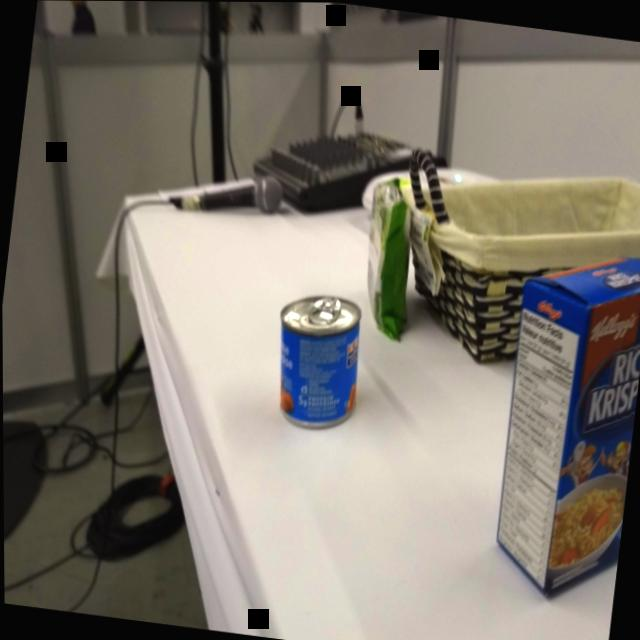cereal: (477, 236, 640, 616)
noodles: (348, 175, 427, 352)
sausages: (261, 283, 374, 440)
